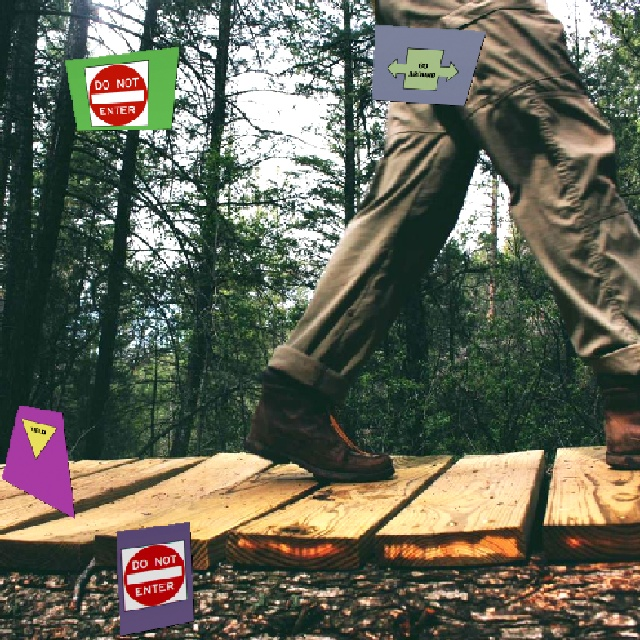DO_NOT_ENTER: (120, 536, 186, 611), (83, 59, 152, 129)
GO_AROUND: (384, 45, 463, 90)
YIELD: (11, 417, 67, 469)
